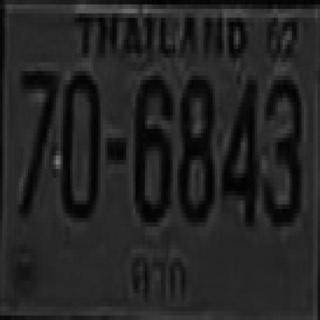N00: (60, 67, 99, 218)
N03: (262, 76, 299, 222)
N04: (221, 76, 256, 222)
N06: (133, 73, 170, 220)
N07: (19, 67, 56, 213)
N08: (178, 73, 212, 220)
P69: (125, 244, 190, 306)
